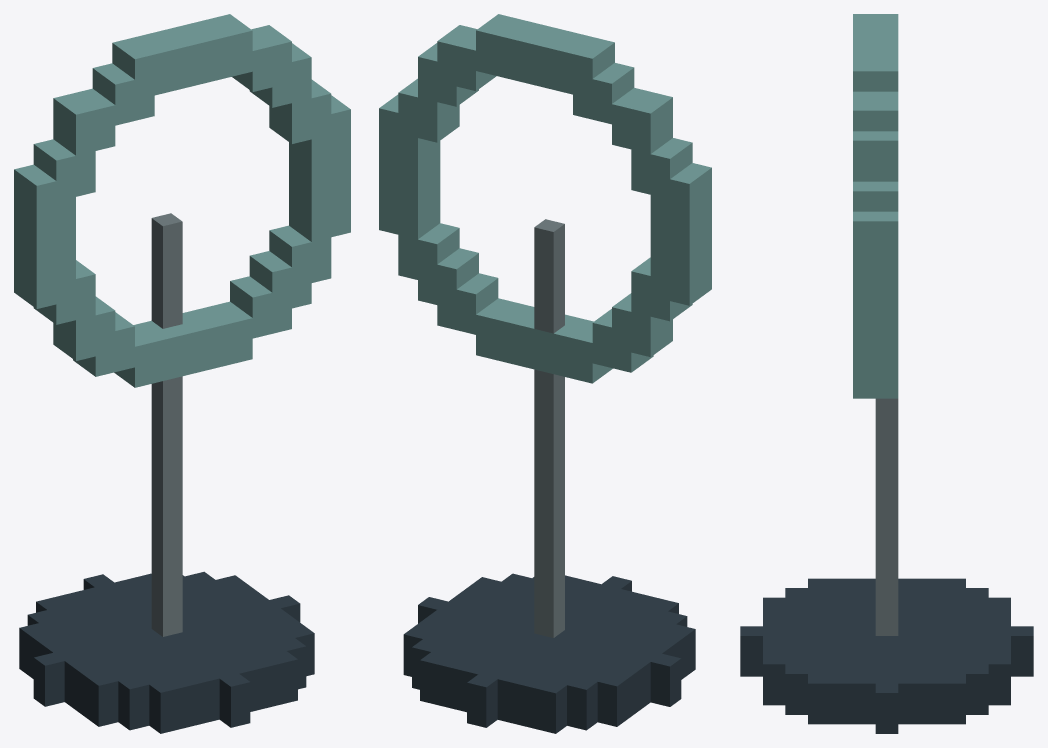
The model's file is health-17.glb.
The picture shows the model from 3 angles, left to right: view 1: azimuth 30°, elevation 25°; view 2: azimuth 150°, elevation 25°; view 3: azimuth 270°, elevation 25°; orthographic projection.
Visible parts, largest first — view 1: Stethoscope; view 2: Stethoscope; view 3: Stethoscope.
Boxes of the visible parts, bbox=[...] form: Stethoscope: bbox=[14, 14, 350, 733]; Stethoscope: bbox=[379, 14, 711, 733]; Stethoscope: bbox=[740, 14, 1033, 733].
Size of the model in its own units: 1.28 by 2.48 by 1.04.
